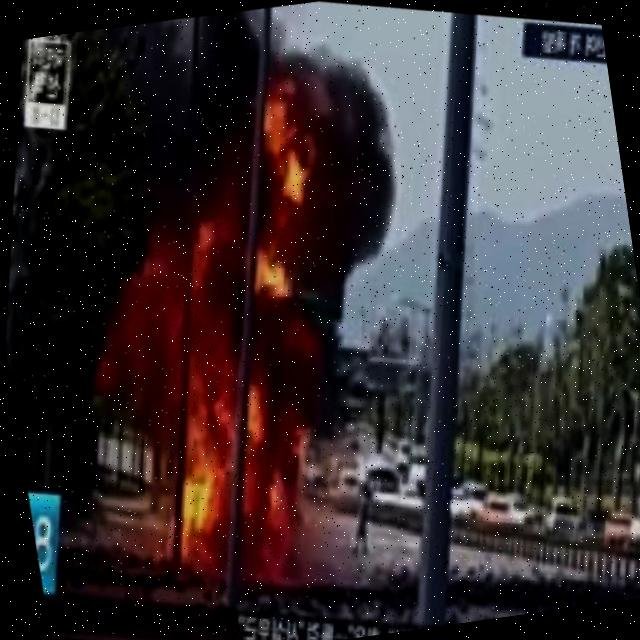fire: (63, 207, 365, 601), (230, 85, 330, 239)
